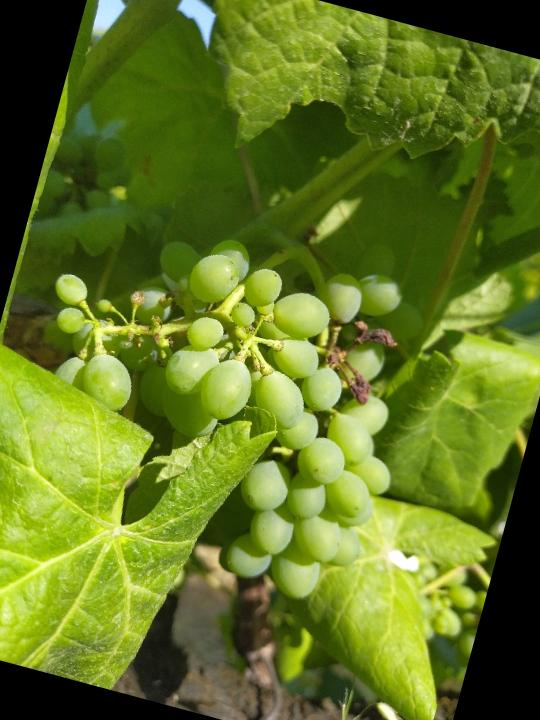grape: (0, 163, 457, 622)
